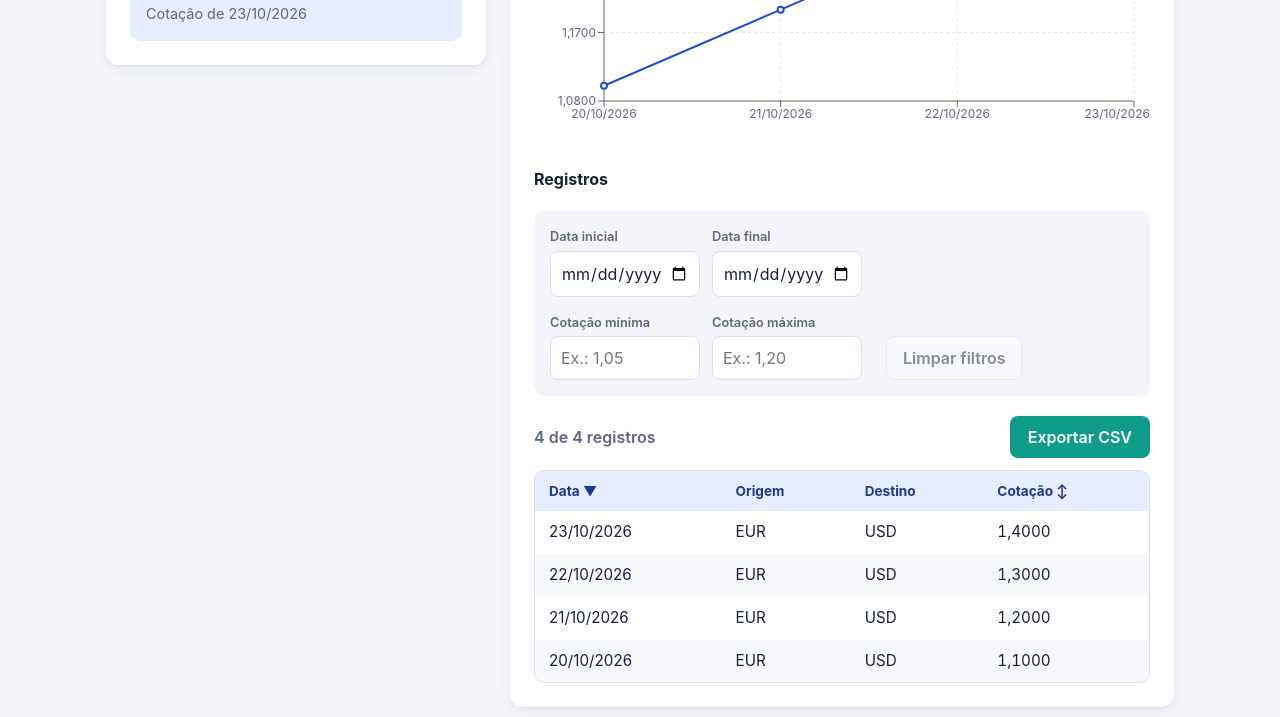
it: App (integração com fetch simulado) › desabilita a exportação quando os filtros não retornam registros
(page scrolled)
Expected: the text "4 de 4 registros" is shown, [534, 425, 656, 449]
Expected: the button "Exportar CSV" is enabled, [1010, 416, 1150, 458]
In the field labelled "Cotação mínima": (625, 358) [550, 336, 700, 380], type "9"
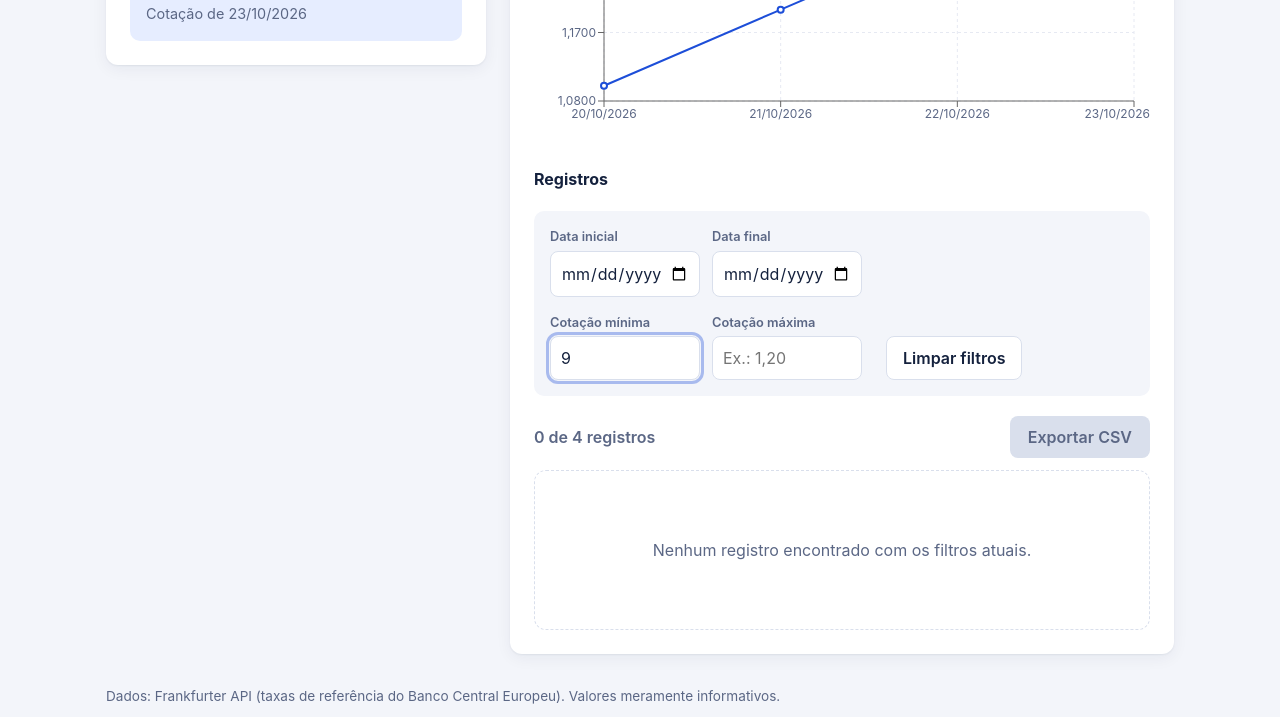
Expected: the text "0 de 4 registros" is shown, [534, 425, 655, 449]
Expected: the button "Exportar CSV" is disabled, [1010, 416, 1150, 458]
